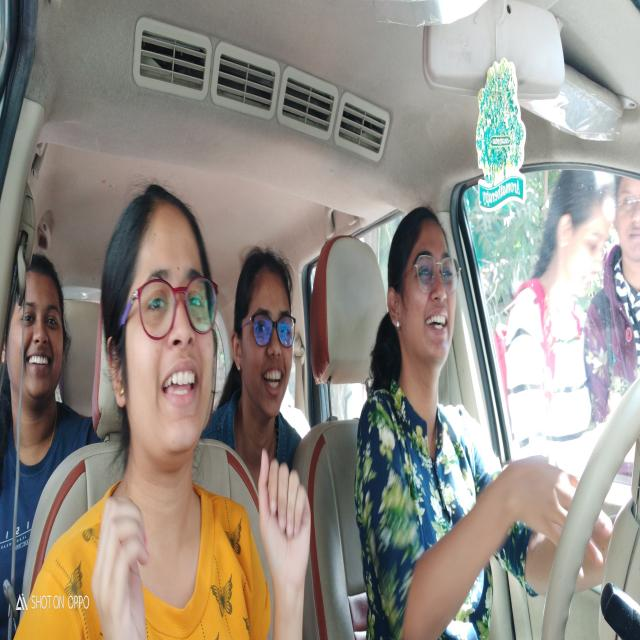person: (105, 216, 216, 458), (387, 221, 458, 362), (234, 252, 294, 409), (11, 276, 66, 398)
